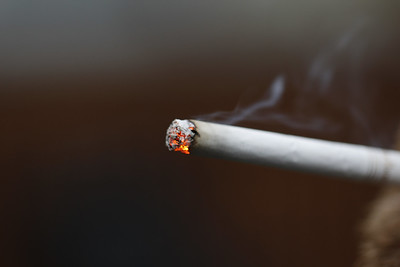cigarette: (162, 114, 400, 186)
